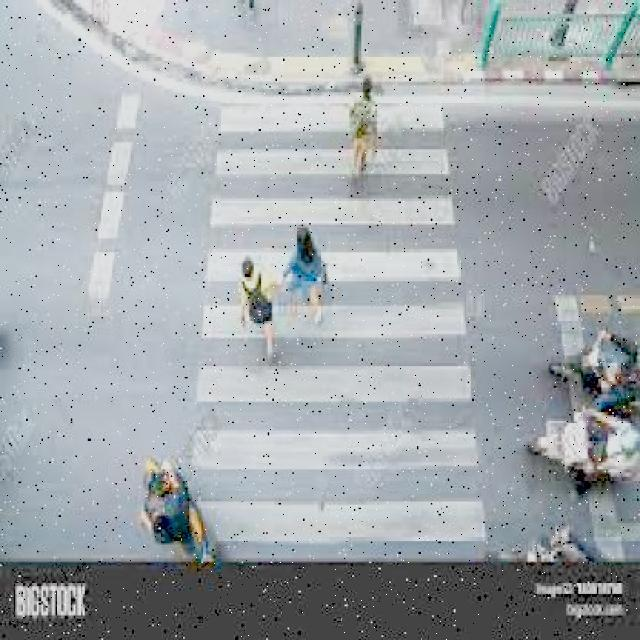crosswalk: (179, 76, 533, 567)
